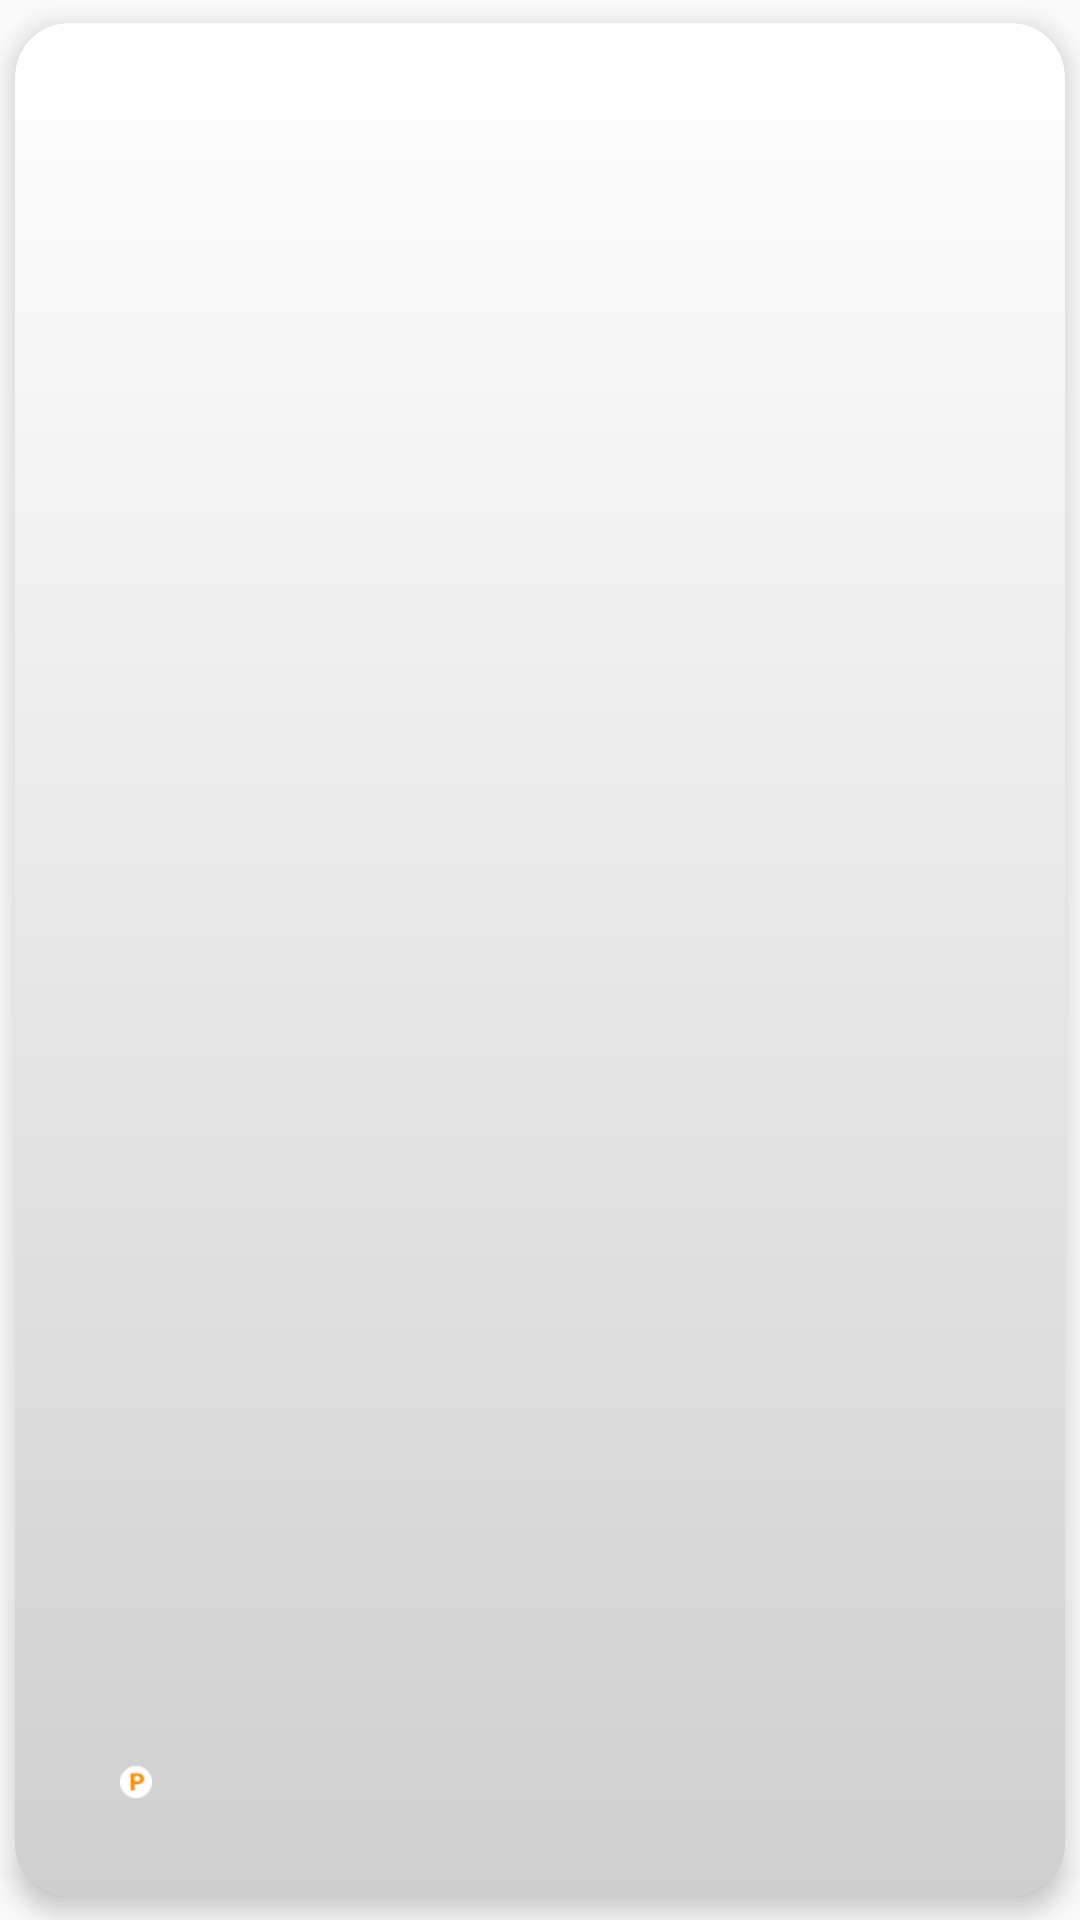

Point at icon controls on the screen. Image size 1080 × 1920, points as [x,y].
groopoint: [136,1782]
